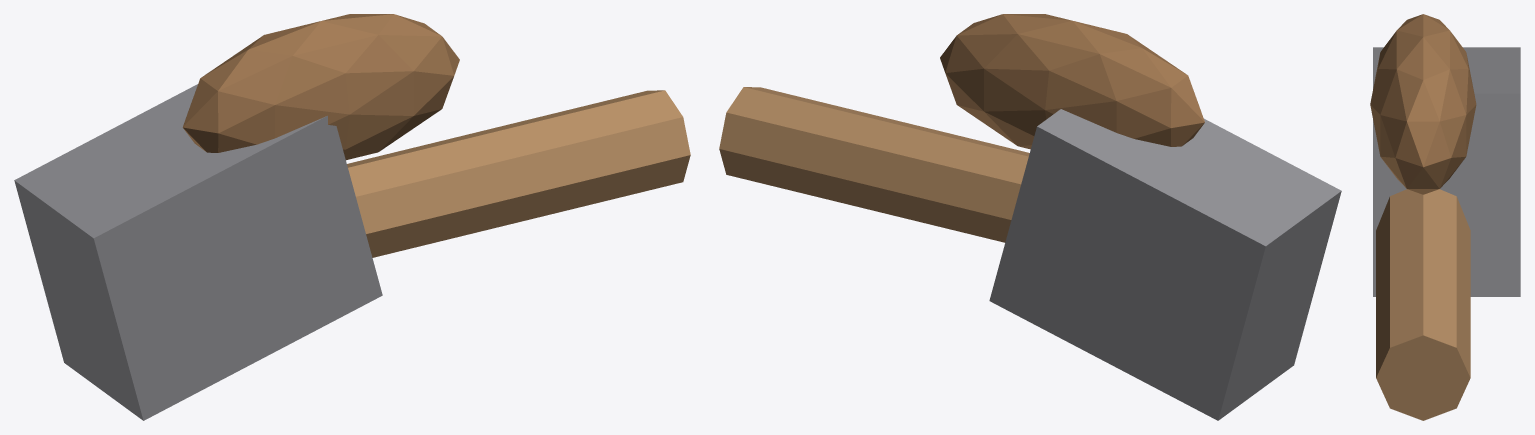
File: crafting_material_bundle.glb
3 views of the same model, side by side, from view 1: azimuth 30°, elevation 25°; view 2: azimuth 150°, elevation 25°; view 3: azimuth 270°, elevation 25° (orthographic). The views are drawn at different scales.
Visible parts, largest first — view 1: ore_chunk, wood_piece, hide_roll; view 2: ore_chunk, wood_piece, hide_roll; view 3: wood_piece, ore_chunk, hide_roll.
Part boxes in pixels (left/top/right/bottom): ore_chunk: left=14, top=84, right=382, bottom=420; wood_piece: left=347, top=90, right=690, bottom=257; hide_roll: left=182, top=14, right=459, bottom=160; ore_chunk: left=989, top=109, right=1341, bottom=420; wood_piece: left=719, top=87, right=1029, bottom=242; hide_roll: left=940, top=14, right=1204, bottom=149; wood_piece: left=1376, top=189, right=1470, bottom=420; ore_chunk: left=1373, top=47, right=1520, bottom=296; hide_roll: left=1370, top=14, right=1476, bottom=194.
Bounding box in the file's own units: 1.09 × 0.5733 × 0.255.
